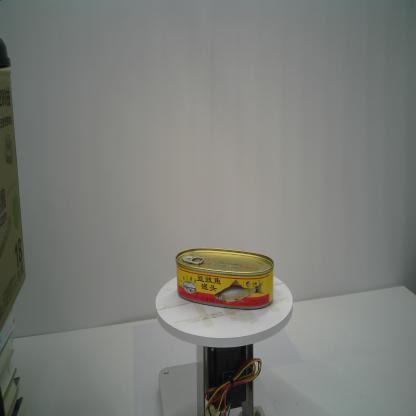Canned Food: (173, 247, 274, 311)
